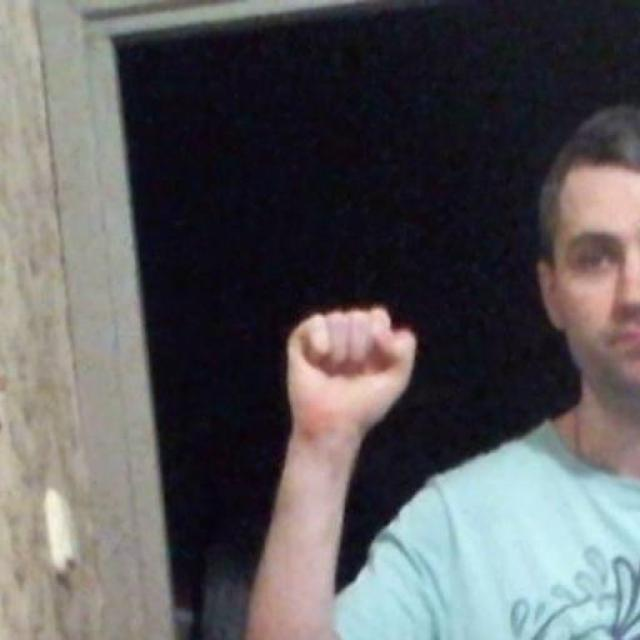hand: (284, 302, 418, 446)
